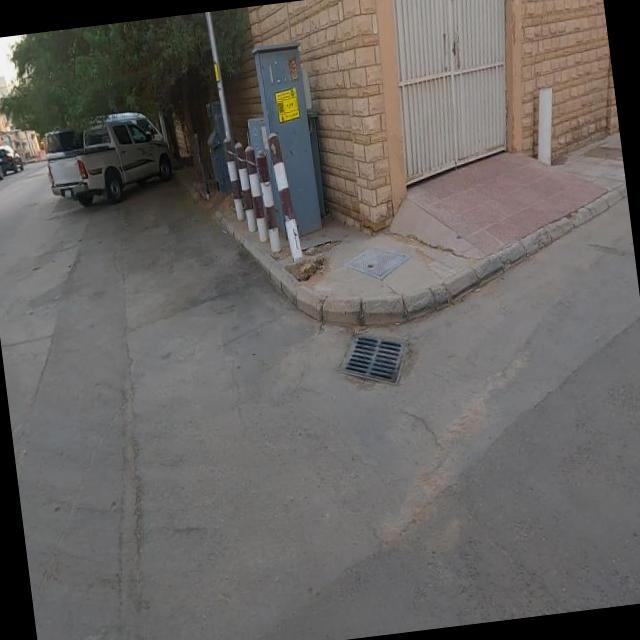debris: (198, 14, 384, 412)
